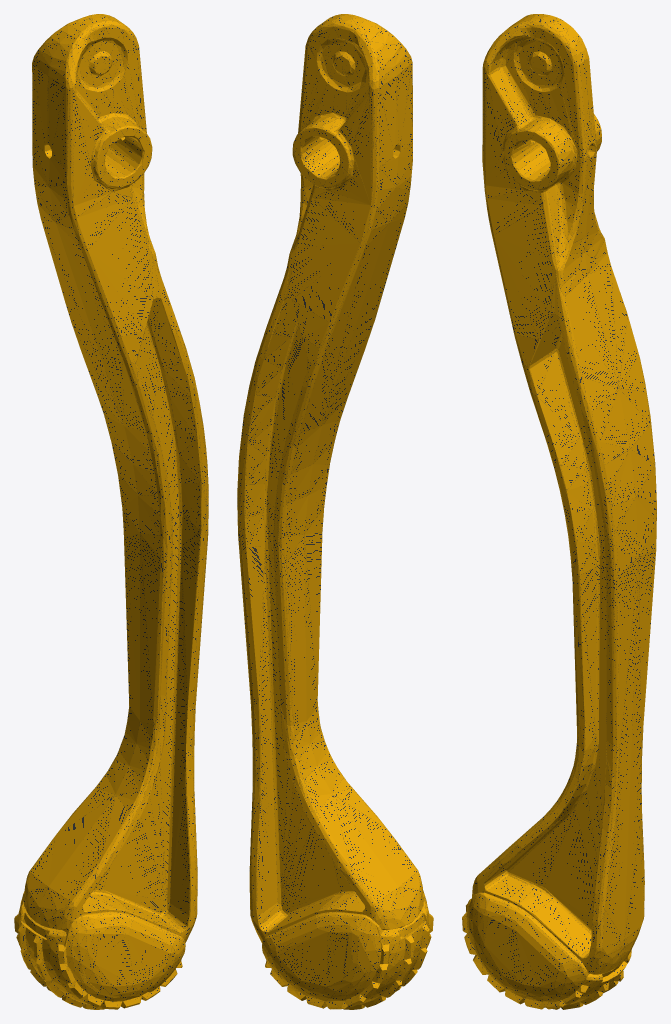
The model's file is front_left_lower_leg.obj.
The picture shows the model from 3 angles, left to right: view 1: azimuth 30°, elevation 25°; view 2: azimuth 150°, elevation 25°; view 3: azimuth 330°, elevation 25°; orthographic projection.
Parts seen in each view (by area): view 1: front_left_lower_leg; view 2: front_left_lower_leg; view 3: front_left_lower_leg.
Boxes of the visible parts, box(x1,y1,x2,y2) form: front_left_lower_leg: box(14, 14, 208, 1009); front_left_lower_leg: box(237, 14, 433, 1009); front_left_lower_leg: box(462, 14, 656, 1009).
Bounding box in the file's own units: 0.0743 × 0.4249 × 0.046.
